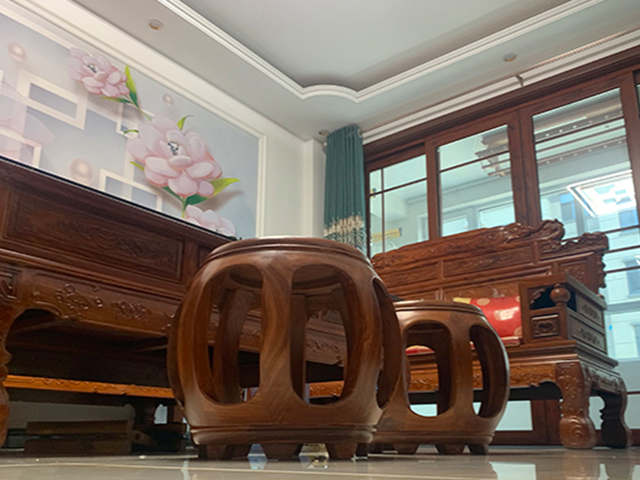sofa: (370, 218, 634, 450)
stool: (164, 235, 406, 465), (369, 299, 511, 454)
table: (2, 154, 232, 445)
